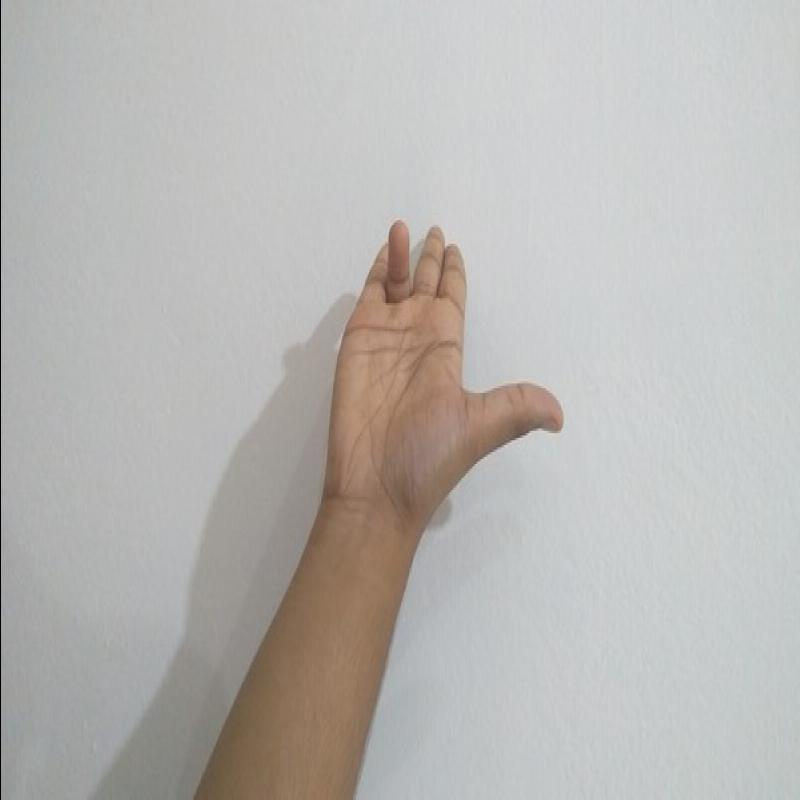Pathaaka: (311, 206, 571, 524)
